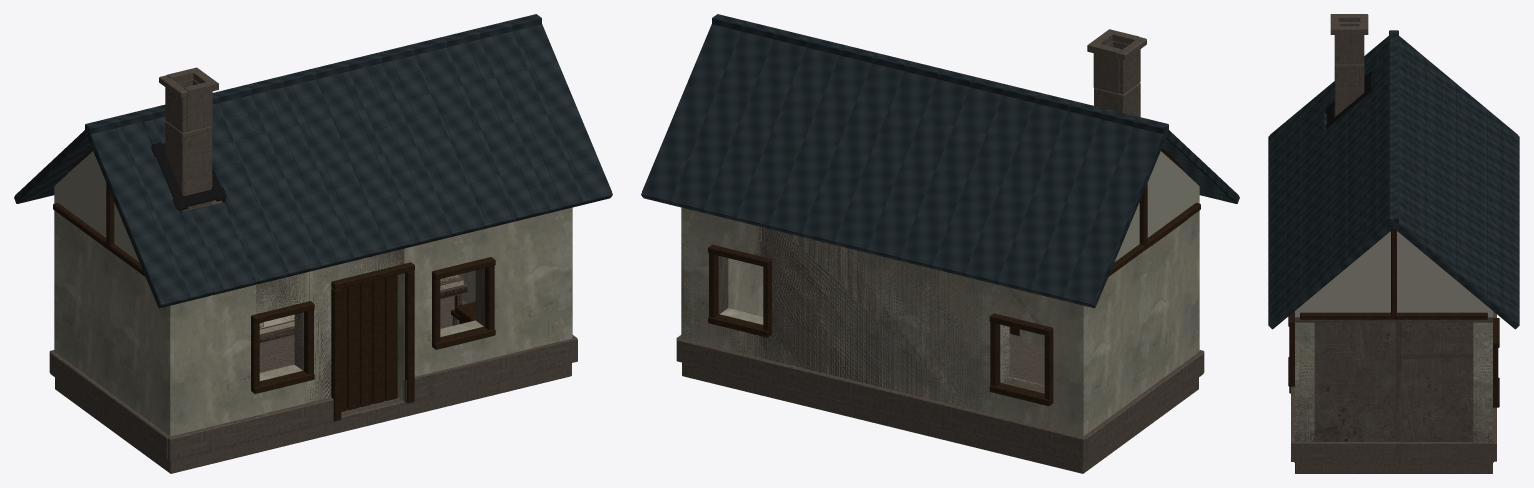
The model's file is s_apprentice_dorm.glb.
3 renders of one model, left to right at view 1: azimuth 30°, elevation 25°; view 2: azimuth 150°, elevation 25°; view 3: azimuth 270°, elevation 25°, orthographic. The views are drawn at different scales.
Visible parts, largest first — view 1: roof, front, foundation, window jamb, front stone belt-colonly.001, front-colonly.003, Door plank.002, Door plank.001, Door plank.003, Door plank.004, chimney flashing, front-colonly.002 (+4 smaller); view 2: roof, front, foundation, rear-colonly.003, window jamb, rear-colonly.006, chimney wall-colonly.003; view 3: roof, side wall-colonly.001, front, foundation, side stone belt-colonly.001, window jamb, rear-colonly.006, front-colonly.008, chimney wall-colonly.001, ceiling-colonly.001, chimney flashing, chimney rim-colonly.001.
Part boxes in pixels (left/top/right/bottom): roof: left=14, top=14, right=612, bottom=308; front: left=54, top=151, right=572, bottom=436; foundation: left=49, top=68, right=576, bottom=473; window jamb: left=53, top=148, right=495, bottom=421; front stone belt-colonly.001: left=404, top=338, right=577, bottom=403; front-colonly.003: left=294, top=265, right=337, bottom=401; Door plank.002: left=360, top=281, right=372, bottom=406; Door plank.001: left=347, top=284, right=359, bottom=410; Door plank.003: left=372, top=278, right=384, bottom=403; Door plank.004: left=385, top=275, right=397, bottom=400; chimney flashing: left=151, top=142, right=226, bottom=210; front-colonly.002: left=256, top=273, right=305, bottom=313; roof: left=641, top=14, right=1239, bottom=308; front: left=681, top=151, right=1199, bottom=436; foundation: left=676, top=30, right=1204, bottom=473; rear-colonly.003: left=767, top=228, right=1009, bottom=412; window jamb: left=708, top=148, right=1200, bottom=406; rear-colonly.006: left=681, top=239, right=728, bottom=341; chimney wall-colonly.003: left=1098, top=54, right=1119, bottom=93; roof: left=1268, top=30, right=1519, bottom=329; side wall-colonly.001: left=1314, top=319, right=1473, bottom=441; front: left=1295, top=231, right=1492, bottom=441; foundation: left=1291, top=14, right=1496, bottom=473; side stone belt-colonly.001: left=1294, top=443, right=1493, bottom=462; window jamb: left=1288, top=228, right=1499, bottom=407; rear-colonly.006: left=1473, top=322, right=1492, bottom=441; front-colonly.008: left=1295, top=322, right=1314, bottom=441; chimney wall-colonly.001: left=1334, top=35, right=1364, bottom=64; ceiling-colonly.001: left=1295, top=317, right=1492, bottom=322; chimney flashing: left=1325, top=70, right=1372, bottom=129; chimney rim-colonly.001: left=1330, top=26, right=1368, bottom=34.
Size of what is drawn, in the model's own units: 9 by 6.82 by 5.07.
7 materials, 6 textured.
